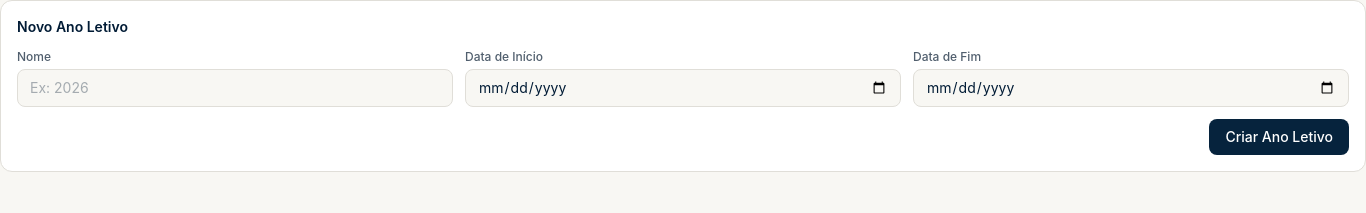
Test: SchoolYearForm › rejects empty name
Type "2026-02-01" into the date field with test id "input-inicio" at (683, 88), box [465,69,901,107]
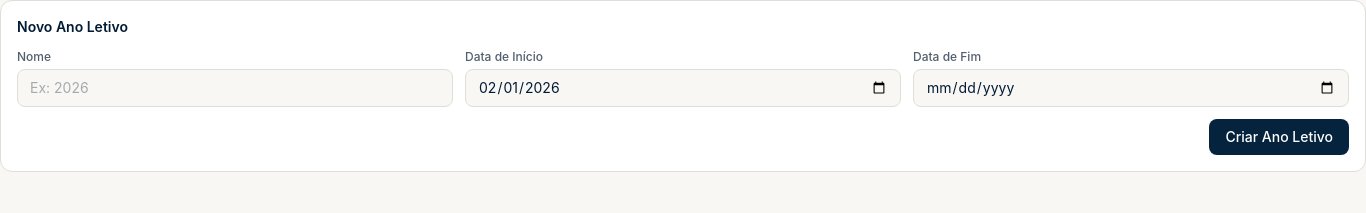
Type "2026-12-15" into the date field with test id "input-fim" at (1131, 88), box [913,69,1349,107]
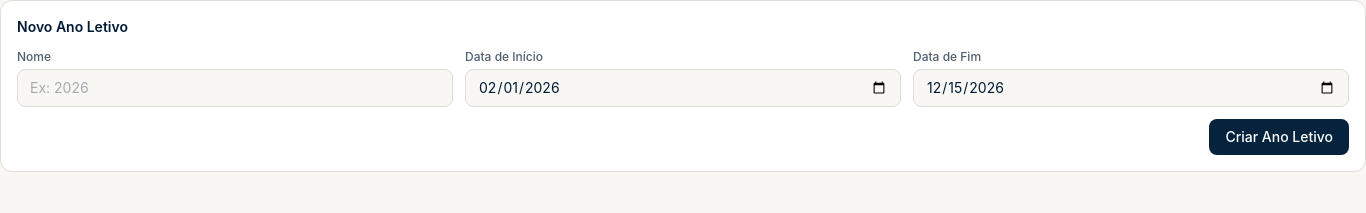
Submit the form with test id "school-year-form"
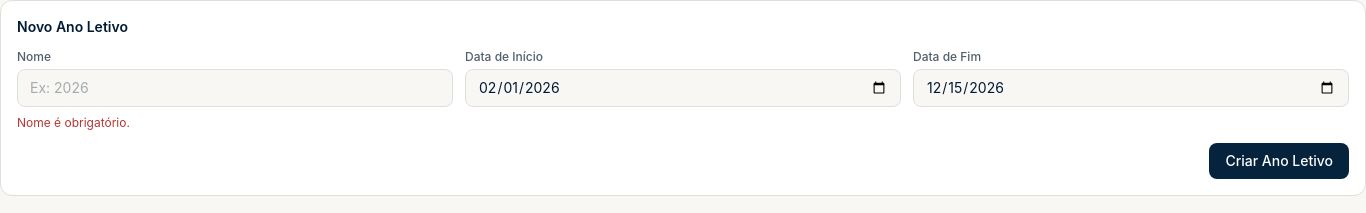
Now the text with test id "form-error" reads "Nome é obrigatório.", box [17,115,130,130]
